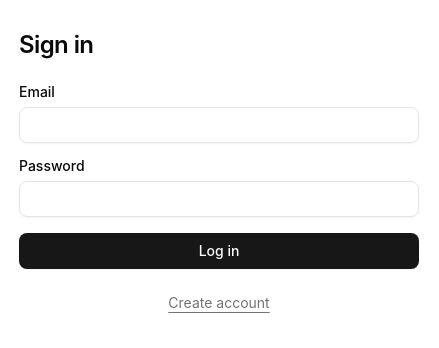
Scenario: shows connection failures without losing the entered email
The image size is (439, 348).
Type "person@example.com" into the field labelled "Email".
click(219, 125); type("person@example.com")  # box [19,107,419,143]
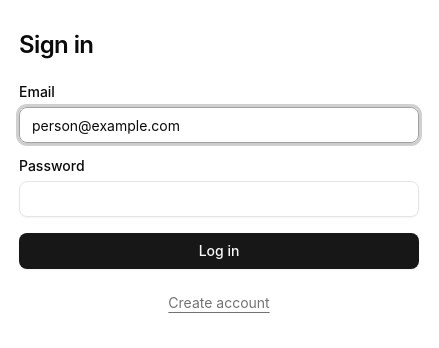
Type "password-123" into the password field labelled "Password".
click(219, 199); type("password-123")  # box [19,181,419,217]
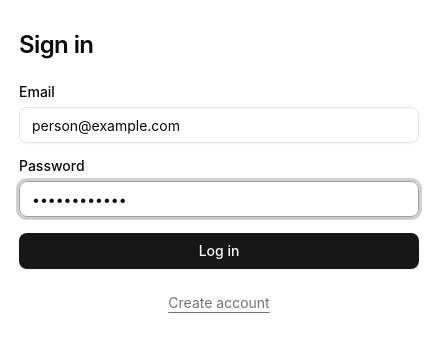
Click the button "Log in".
click(219, 251)  # box [19,233,419,269]
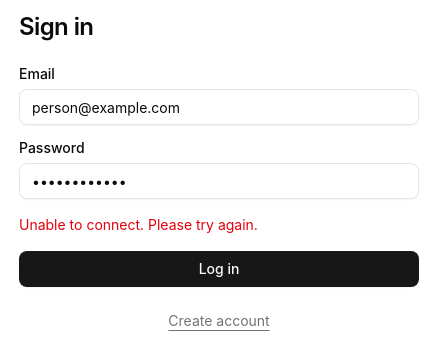
Expected: the button "Log in" is enabled, [19,251,419,287]
Now the message shows "Unable to connect", box [19,216,258,233]
